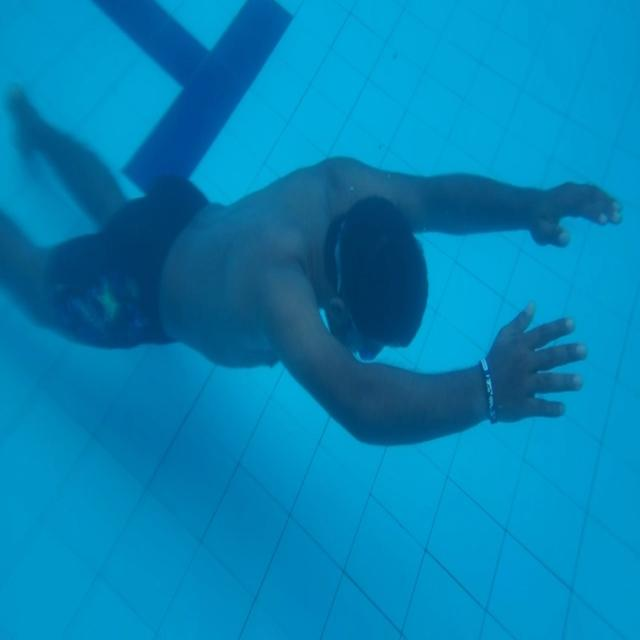Drowning: (1, 84, 623, 446)
